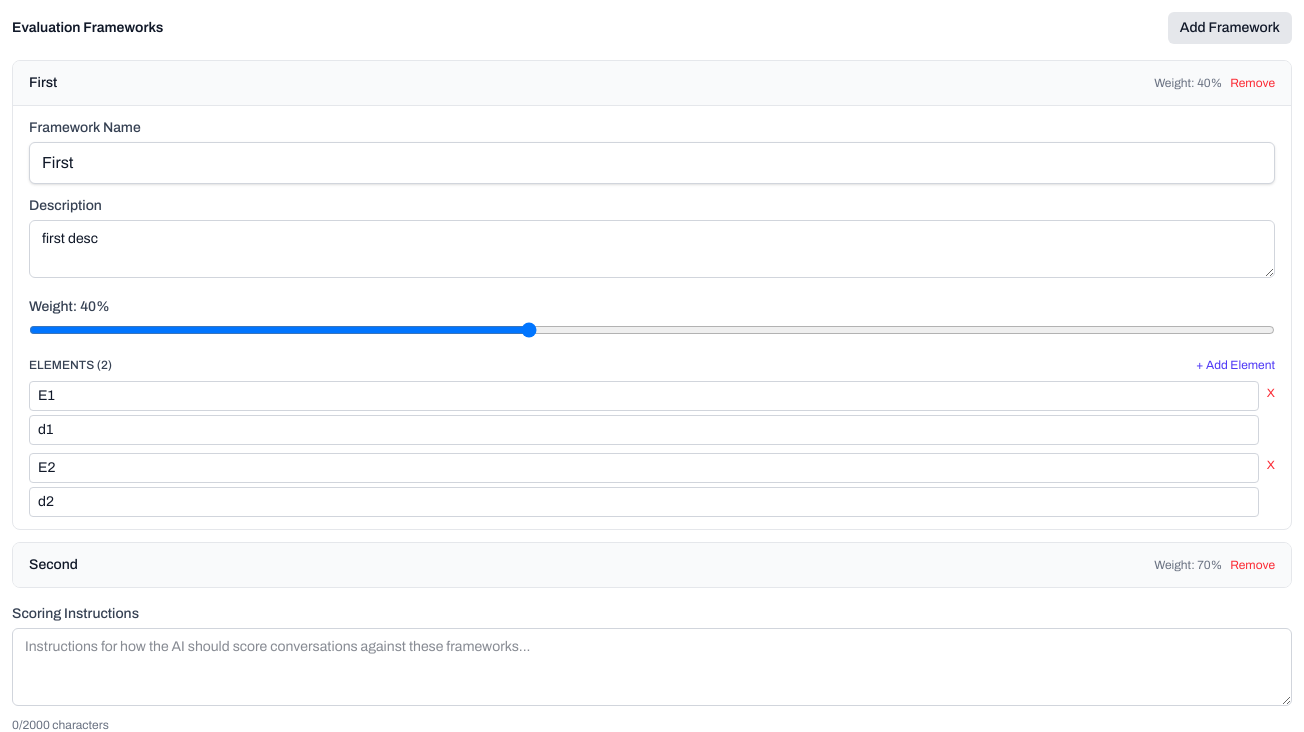
Test: EvaluationEditor › expand / collapse › expands a collapsed framework when its header is clicked
Click the text "Second" at (53, 565), box [29, 555, 78, 575]
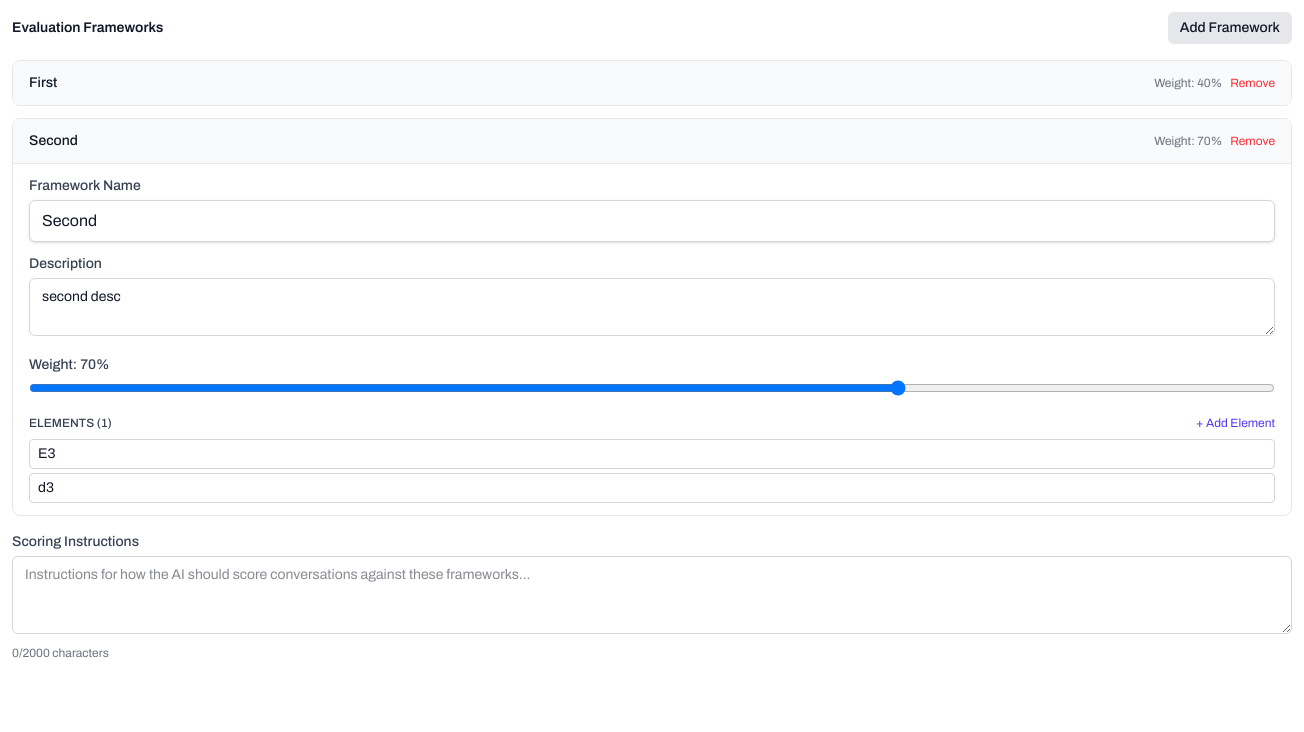
Expected: the field with test id "fw-name-1" is shown, [29, 200, 1275, 242]
